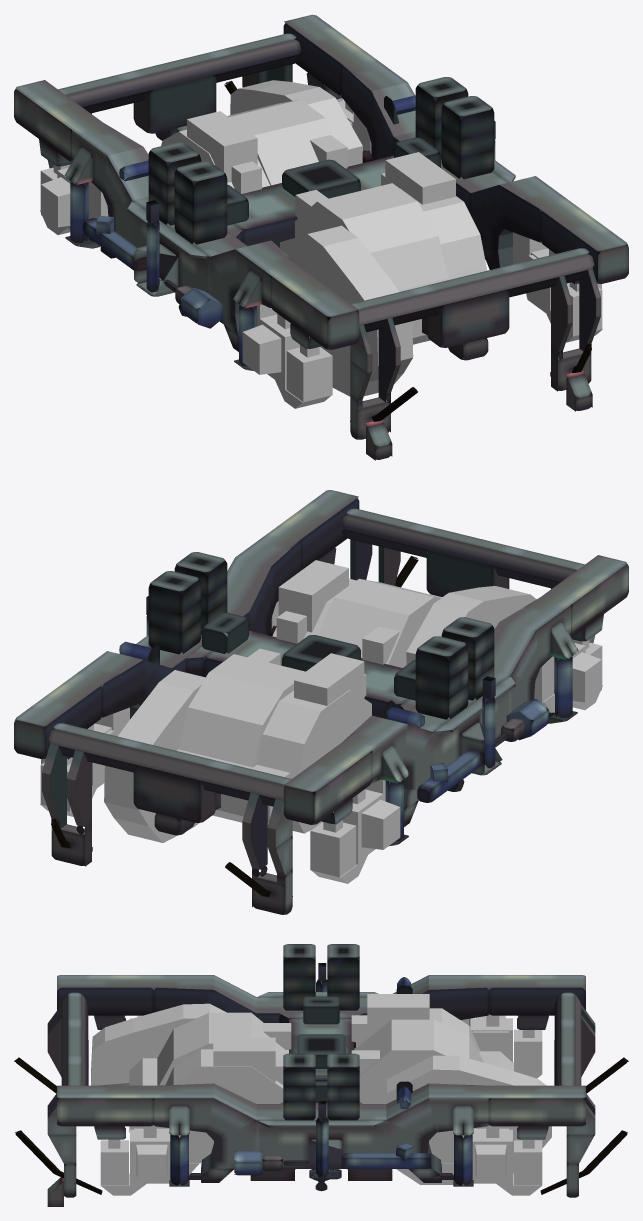
The model's file is ss8_frame.obj.
The picture shows the model from 3 angles, top to bottom: view 1: azimuth 30°, elevation 25°; view 2: azimuth 150°, elevation 25°; view 3: azimuth 270°, elevation 25°; orthographic projection. The views are drawn at different scales.
Parts seen in each view (by area): view 1: cube; view 2: cube; view 3: cube.
Boxes of the visible parts, <box> form: cube: <box>14,14,628,460</box>; cube: <box>14,490,628,914</box>; cube: <box>14,944,628,1206</box>.
Size of the model in its own units: 2.63 by 1.33 by 4.74.
